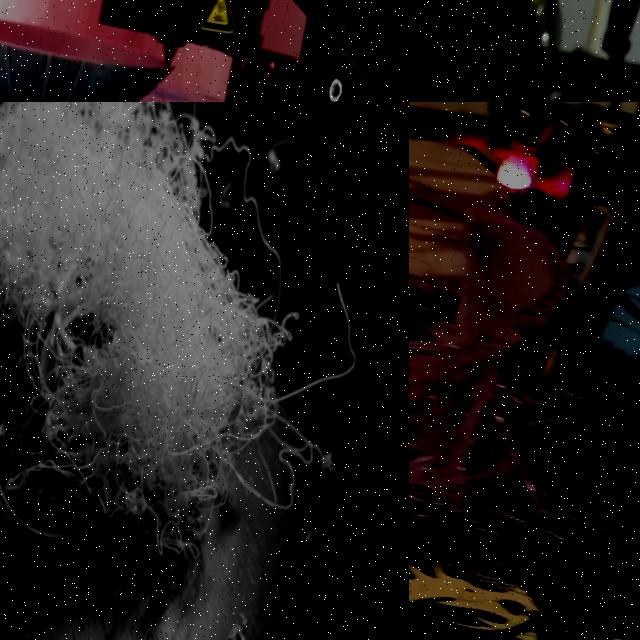spaghetti: (409, 232, 640, 640), (257, 109, 313, 189), (219, 608, 263, 640)
